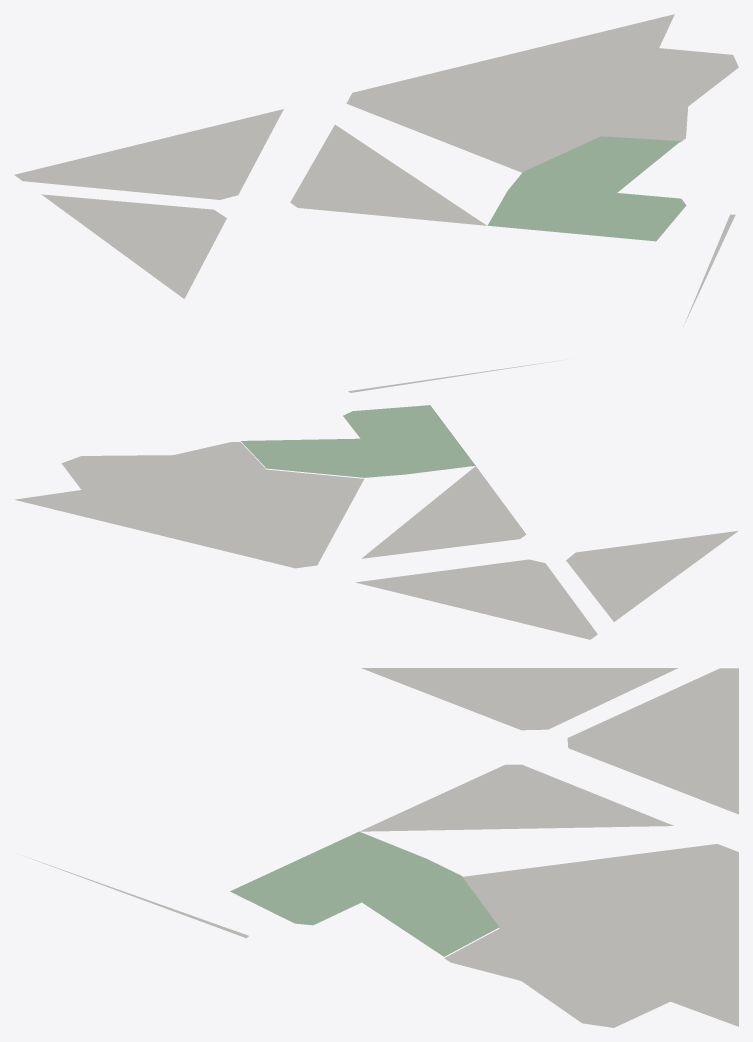
File: 104_116_mid.glb
The picture shows the model from 3 angles, top to bottom: view 1: azimuth 30°, elevation 25°; view 2: azimuth 150°, elevation 25°; view 3: azimuth 270°, elevation 25°; orthographic projection. The views are drawn at different scales.
Size of the model in its own units: 491 by 0.8969 by 419.
